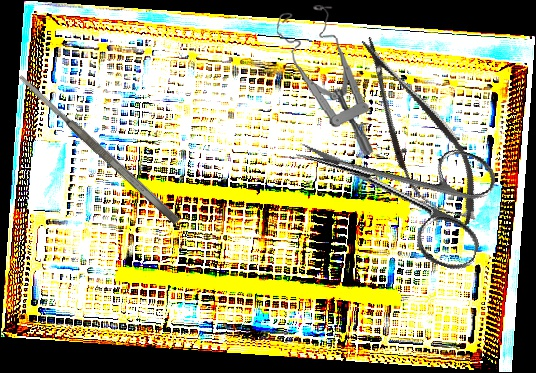Iris Scissors: (277, 97, 508, 276)
Micro Scissor: (336, 23, 497, 241)
Spatula Surgical: (16, 71, 182, 227)
Speculum: (275, 1, 374, 161)
